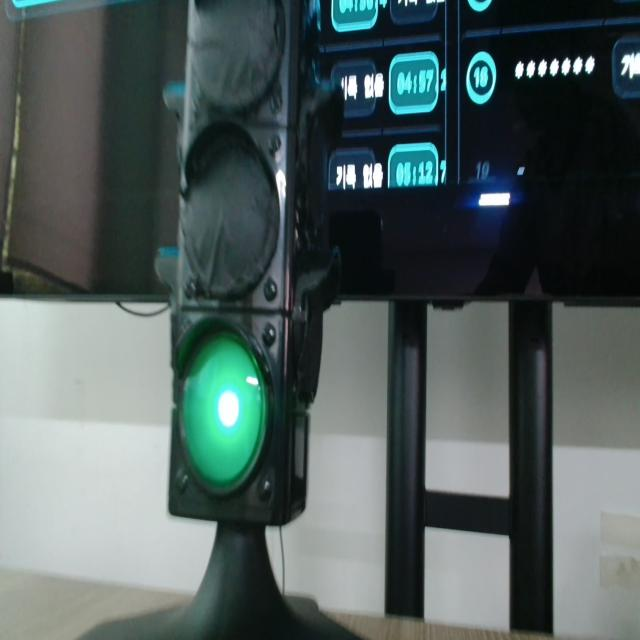green_light: (183, 334, 267, 490)
